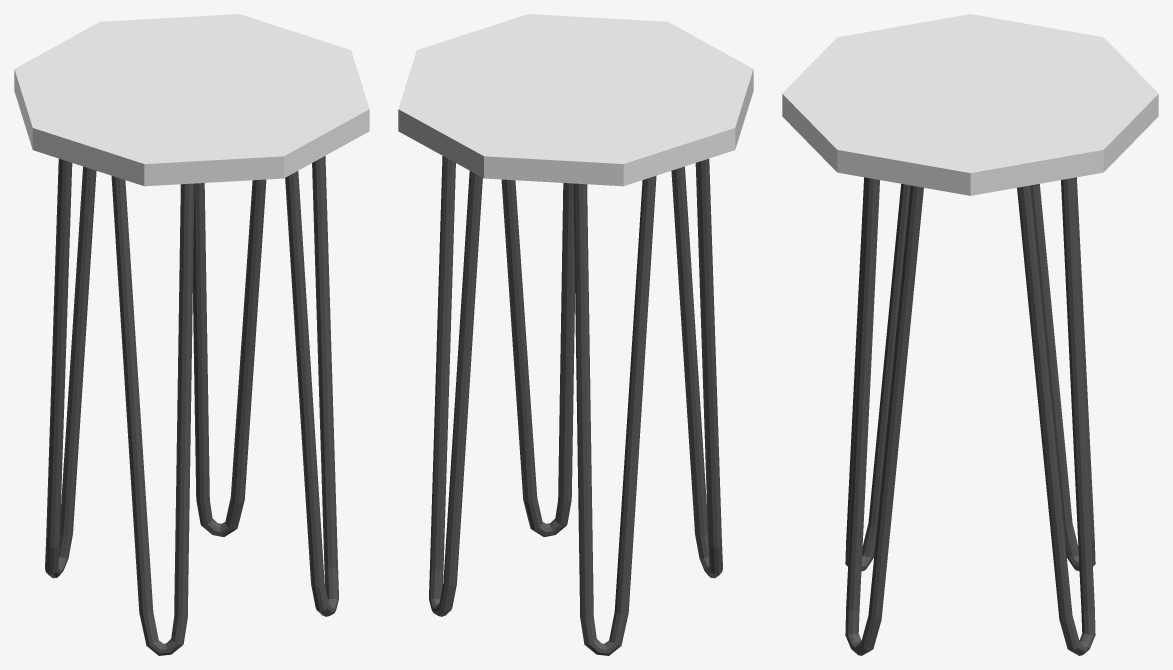
Rendered from Table_15.fbx.
3 renders of one model, left to right at view 1: azimuth 30°, elevation 25°; view 2: azimuth 150°, elevation 25°; view 3: azimuth 270°, elevation 25°, orthographic. The views are drawn at different scales.
Visible parts, largest first — view 1: Table_15; view 2: Table_15; view 3: Table_15.
Part boxes in pixels (x1=…): Table_15: x1=14, y1=14, x2=369, y2=655; Table_15: x1=398, y1=14, x2=753, y2=655; Table_15: x1=782, y1=14, x2=1158, y2=655.
Bounding box in the file's own units: 88.95 × 88.95 × 135.
